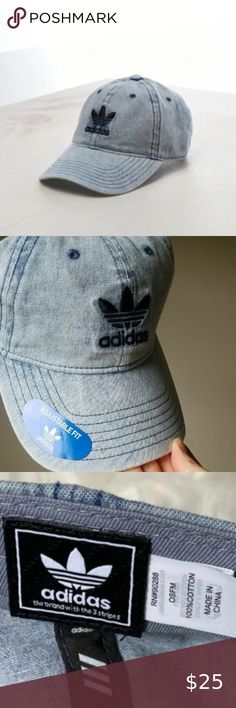adidas Originale: (32, 541, 135, 612), (88, 274, 160, 351), (82, 102, 121, 140)
